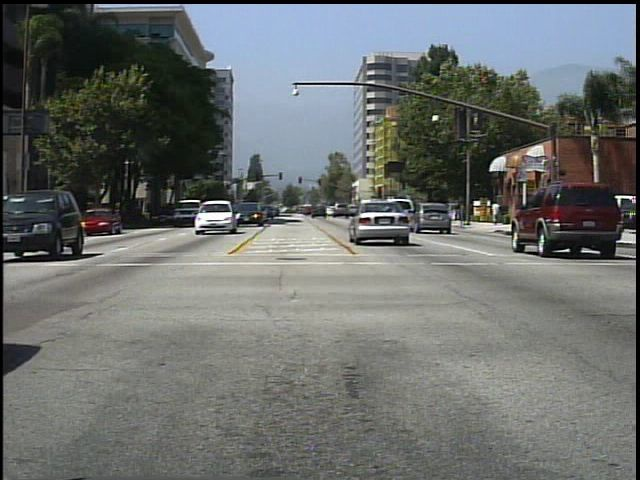person: (447, 194, 464, 230), (491, 198, 502, 226)
